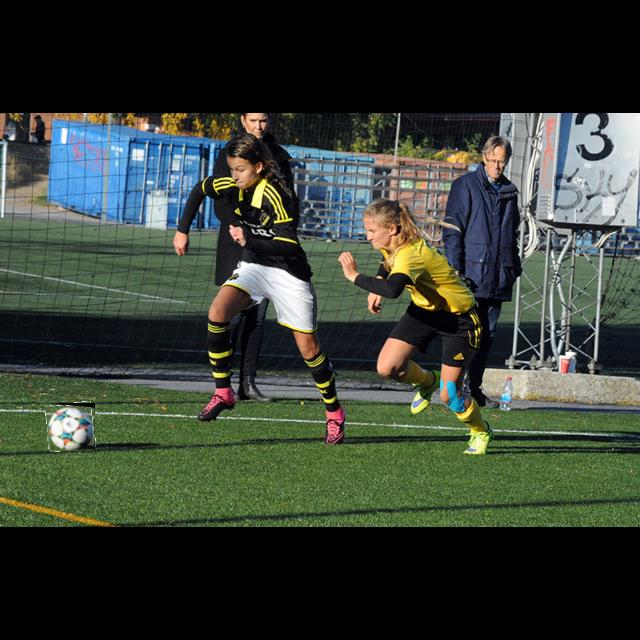Football: (47, 403, 95, 451)
